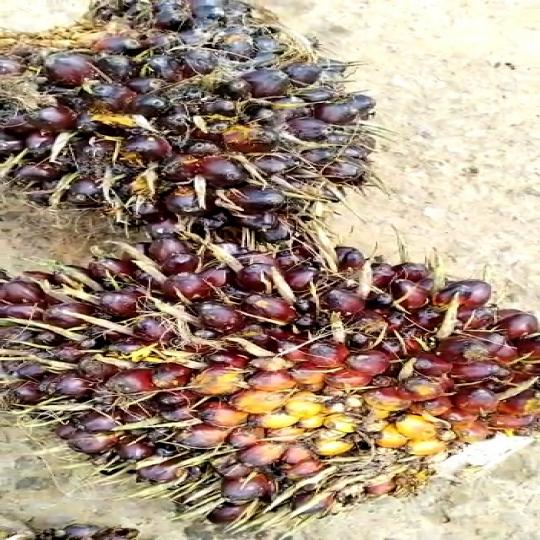kurang masak: (0, 228, 540, 506), (0, 0, 414, 246)
